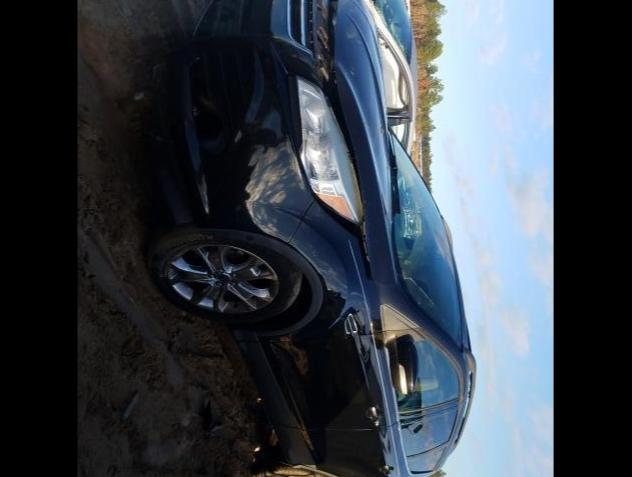Broken part: (310, 0, 396, 282), (288, 0, 314, 46)
Flaking: (344, 28, 366, 46), (349, 68, 358, 80)
